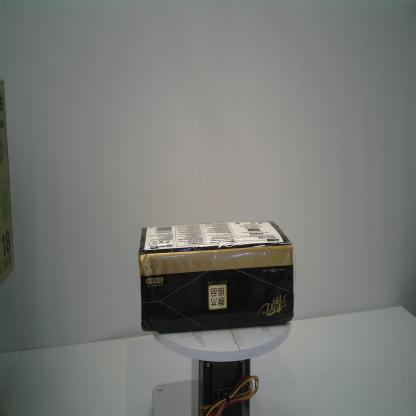Tissue: (136, 218, 296, 334)
